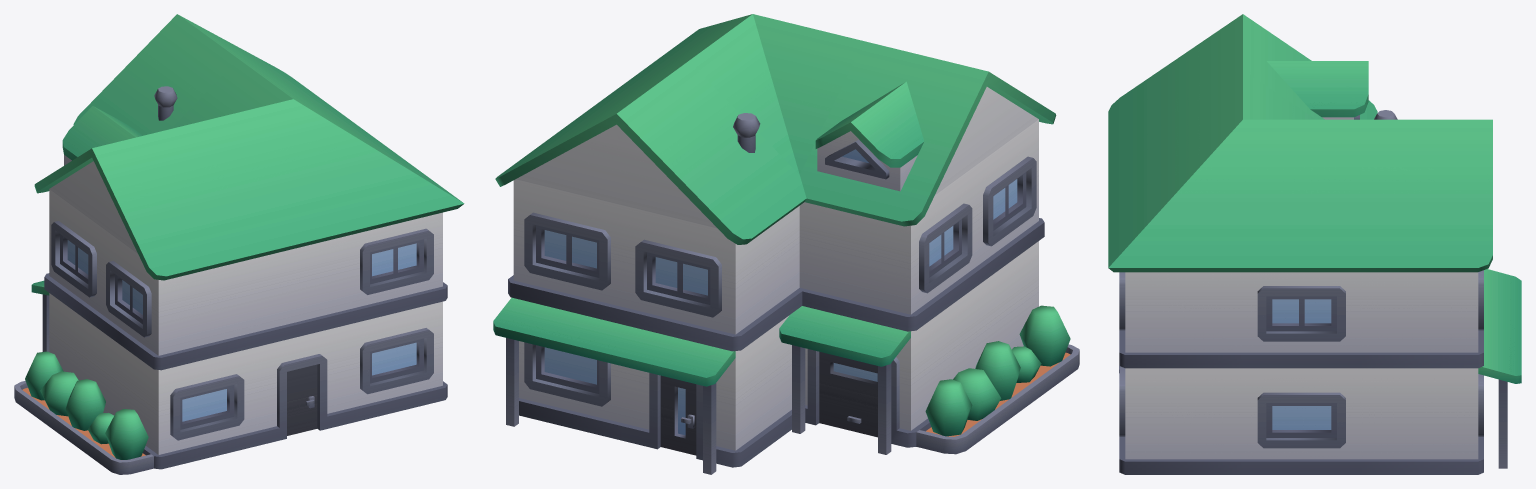
3 views of the same model, side by side, from view 1: azimuth 30°, elevation 25°; view 2: azimuth 150°, elevation 25°; view 3: azimuth 270°, elevation 25° (orthographic). The views are drawn at different scales.
Parts seen in each view (by area): view 1: building-type-f; view 2: building-type-f; view 3: building-type-f.
Part boxes in pixels (x1=…): building-type-f: x1=14, y1=14, x2=464, y2=474; building-type-f: x1=493, y1=14, x2=1079, y2=474; building-type-f: x1=1108, y1=14, x2=1521, y2=474.
Size of the model in its own units: 12.85 by 10.23 by 12.65.
1 material, 1 textured.
